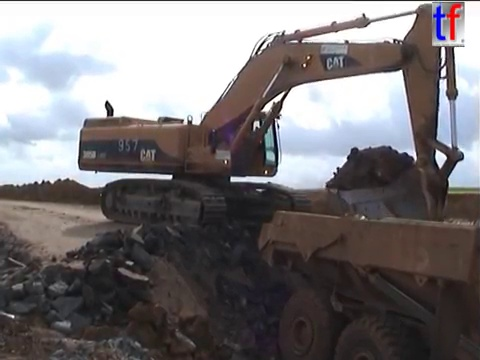excavator: (75, 1, 468, 240)
truck: (254, 189, 480, 360)
